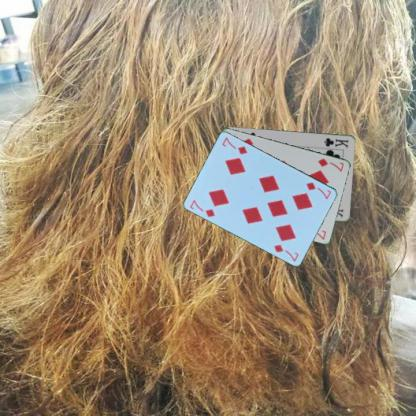7d: (187, 197, 216, 218), (304, 180, 332, 200), (315, 155, 345, 173)
Kc: (322, 135, 349, 149)
